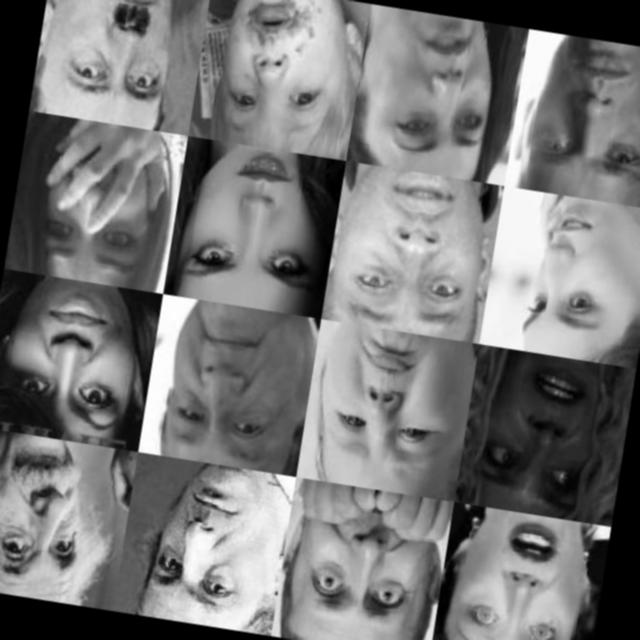fear: (178, 144, 334, 307), (23, 121, 170, 288), (286, 483, 432, 640), (472, 354, 612, 514), (448, 514, 583, 640)
neutral: (162, 306, 296, 474), (139, 461, 271, 629), (0, 281, 140, 438), (515, 31, 640, 195), (381, 10, 501, 174), (512, 198, 633, 358), (52, 0, 181, 120)
sad: (338, 166, 486, 340), (316, 328, 461, 484), (216, 0, 345, 151), (0, 431, 100, 598)
